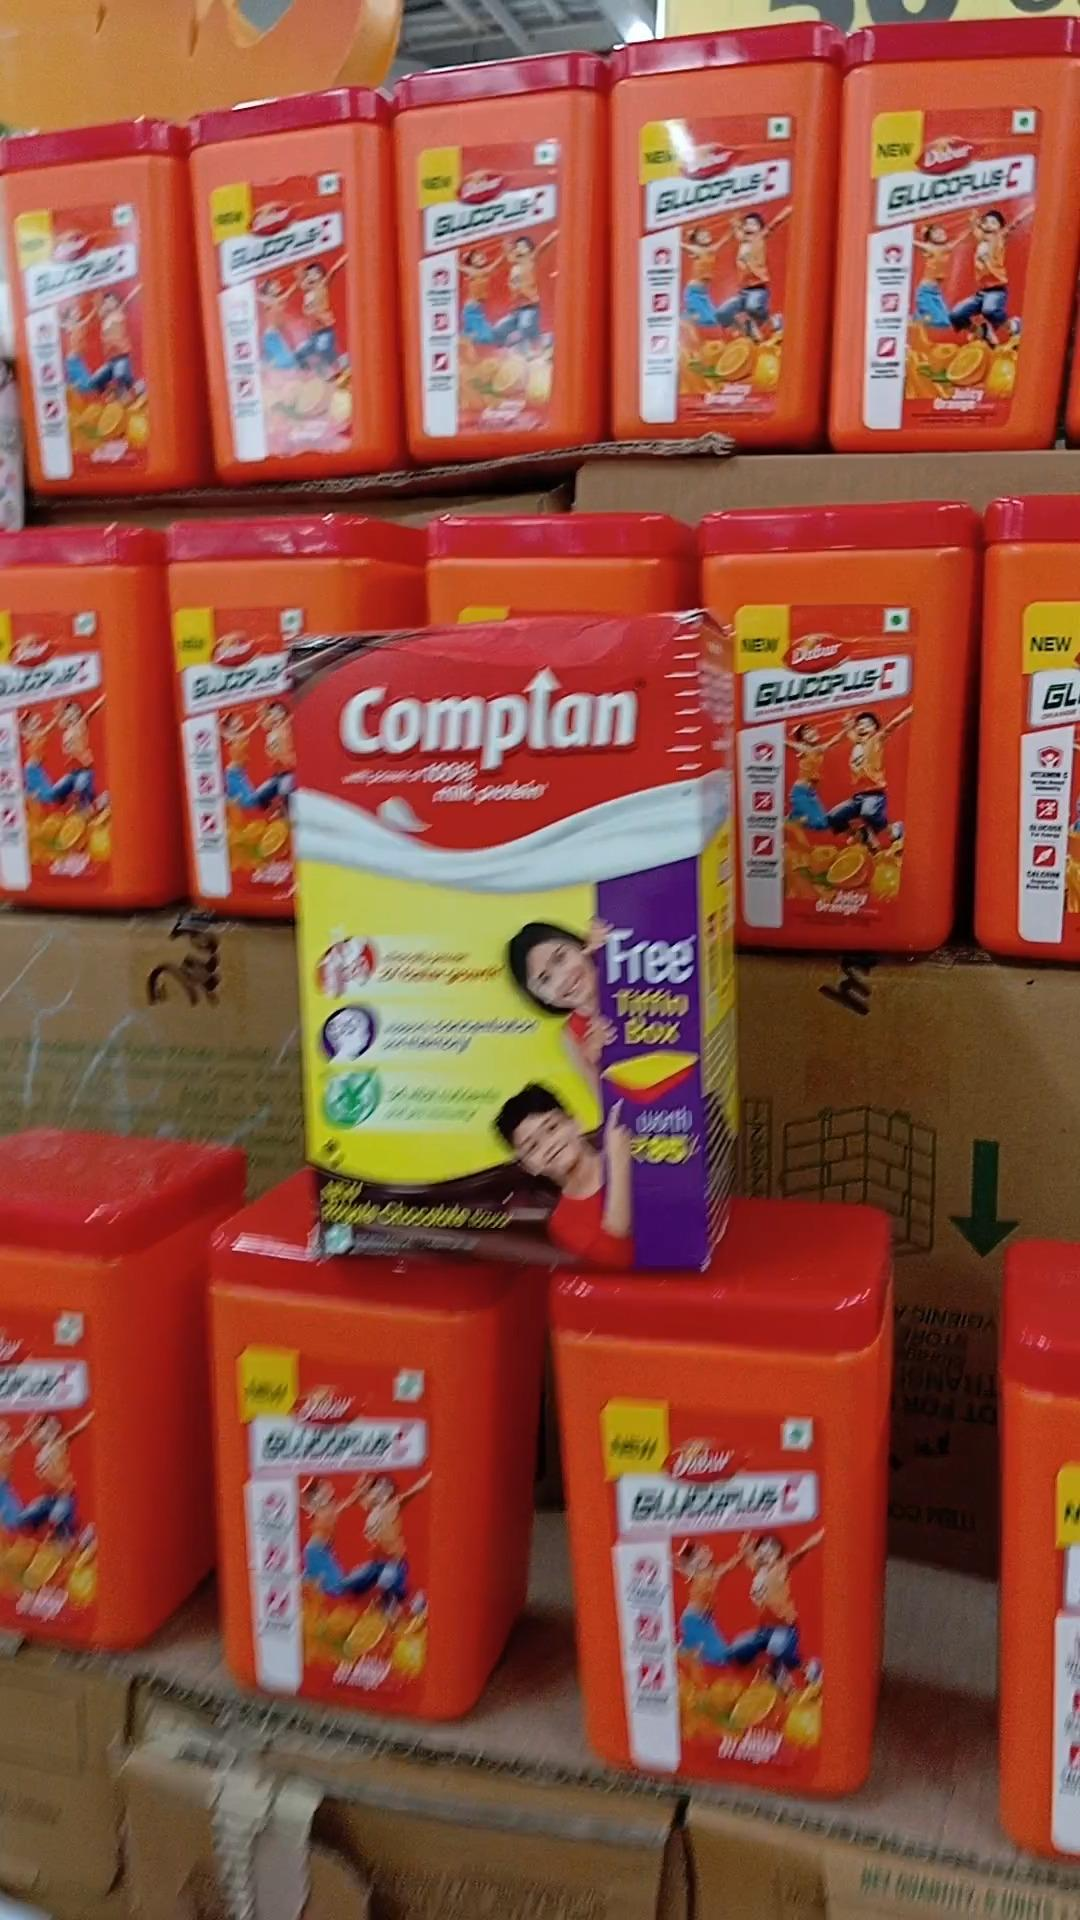COMPLAN_CHOCOLATE_500_GMS_PACK: (310, 642, 708, 1261)
